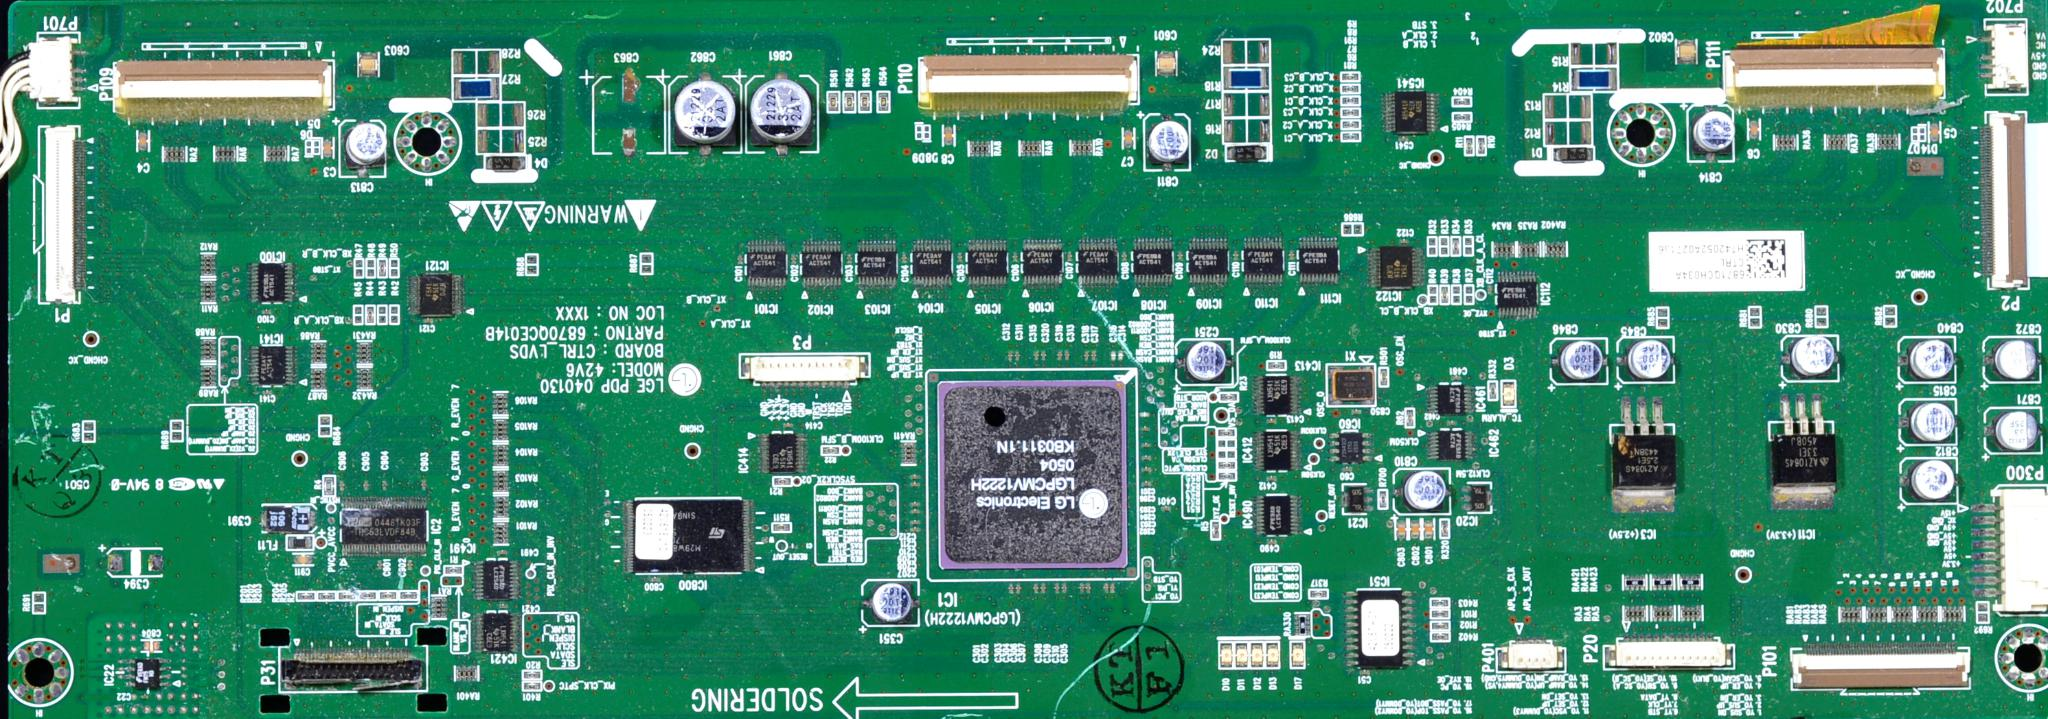Capacitor Jumper: (674, 72, 739, 146), (748, 76, 815, 148), (1395, 468, 1451, 515), (1143, 114, 1190, 167), (345, 119, 389, 175), (1553, 340, 1610, 383), (1690, 106, 1736, 158), (1903, 336, 1955, 382), (1785, 336, 1842, 378), (1991, 337, 2039, 382), (1179, 340, 1230, 382), (1991, 409, 2040, 450), (1907, 459, 1957, 499), (866, 583, 917, 622), (1626, 341, 1673, 380), (1910, 400, 1954, 441), (261, 505, 317, 532), (107, 549, 163, 575), (1155, 46, 1177, 76), (358, 48, 380, 77), (1677, 39, 1694, 63), (1746, 116, 1762, 141), (940, 123, 955, 149), (290, 553, 313, 565), (1930, 123, 1942, 145), (137, 131, 149, 153), (1422, 519, 1434, 540), (1395, 520, 1408, 539), (321, 139, 333, 158), (1409, 519, 1421, 539), (1123, 128, 1132, 152), (140, 641, 162, 650), (1140, 478, 1155, 488), (1091, 346, 1098, 361), (1004, 350, 1015, 361), (1080, 349, 1089, 361), (1139, 464, 1152, 472), (909, 518, 920, 527), (1139, 452, 1151, 460), (421, 478, 428, 490), (379, 478, 387, 490), (337, 480, 345, 492), (375, 558, 383, 569), (1031, 582, 1038, 592), (362, 478, 368, 490), (909, 501, 921, 507), (1015, 349, 1021, 359), (1139, 442, 1152, 447), (908, 473, 921, 478), (909, 527, 922, 532), (1054, 582, 1061, 592), (1007, 582, 1014, 592), (1040, 582, 1046, 592), (1015, 583, 1021, 594), (406, 558, 411, 570), (1055, 349, 1062, 358), (1040, 350, 1046, 359), (1032, 350, 1038, 359), (1140, 425, 1149, 431), (1061, 583, 1067, 592), (1161, 506, 1172, 511), (909, 509, 920, 514), (1079, 582, 1084, 592), (1085, 582, 1091, 592), (1104, 582, 1109, 592), (1109, 583, 1114, 594), (1062, 352, 1070, 358), (908, 482, 920, 486)
Connector: (1724, 44, 1946, 110), (913, 52, 1145, 114), (111, 58, 332, 118), (1980, 107, 2048, 294), (1788, 638, 1974, 694), (1971, 486, 2048, 614), (39, 124, 93, 305), (280, 644, 426, 692), (1607, 633, 1738, 672), (1981, 13, 2031, 97), (26, 34, 80, 110), (742, 353, 867, 384), (1499, 639, 1567, 671)
IC: (926, 370, 1136, 580), (623, 495, 754, 575), (1603, 393, 1678, 515), (1768, 393, 1844, 511), (1343, 584, 1416, 672), (338, 497, 430, 556), (405, 271, 465, 319), (1381, 89, 1438, 137), (1250, 492, 1302, 541), (1294, 235, 1344, 286), (1237, 235, 1287, 285), (906, 237, 953, 289), (1183, 238, 1234, 285), (798, 238, 845, 288), (853, 238, 900, 288), (1493, 271, 1540, 320), (1020, 235, 1067, 284), (743, 238, 792, 285), (1253, 425, 1300, 473), (964, 235, 1010, 285), (1371, 244, 1422, 289), (1251, 374, 1301, 418), (248, 259, 294, 306), (249, 344, 296, 390), (474, 608, 520, 655), (759, 429, 806, 473), (473, 556, 521, 599), (1132, 238, 1177, 284), (1424, 380, 1479, 416), (1078, 242, 1119, 284), (1429, 425, 1476, 460), (123, 656, 171, 690), (1326, 429, 1370, 463), (1340, 482, 1374, 516), (1462, 482, 1493, 512)
Resistor Jumper: (1221, 38, 1271, 63), (1543, 94, 1591, 119), (1223, 119, 1271, 144), (1543, 120, 1593, 144), (452, 76, 502, 99), (1223, 92, 1270, 116), (1223, 64, 1271, 88), (1570, 42, 1617, 65), (1573, 68, 1616, 89), (81, 418, 95, 442), (1655, 306, 1668, 328), (1813, 306, 1826, 327), (1219, 391, 1240, 404), (639, 251, 650, 273), (1439, 516, 1451, 539), (842, 90, 856, 110), (317, 416, 330, 435), (323, 475, 333, 497), (170, 421, 182, 441), (1977, 603, 1989, 622), (828, 90, 839, 111), (859, 90, 870, 111), (1749, 307, 1759, 328), (1307, 588, 1328, 599), (879, 90, 889, 110), (1464, 136, 1475, 156), (364, 258, 375, 277), (1216, 427, 1236, 438), (296, 590, 316, 600), (33, 592, 43, 612), (1405, 407, 1415, 429), (1883, 307, 1895, 324), (1379, 366, 1388, 387), (357, 591, 377, 600), (1432, 621, 1450, 631), (1341, 120, 1361, 129), (526, 254, 536, 273), (366, 305, 375, 324), (820, 446, 840, 455), (772, 477, 792, 486), (772, 523, 792, 532), (398, 591, 418, 600), (1430, 596, 1450, 605), (1430, 631, 1450, 641), (1341, 72, 1358, 82), (1454, 97, 1472, 106), (389, 305, 398, 323), (1217, 459, 1236, 468), (353, 303, 360, 324), (1379, 489, 1387, 510), (377, 591, 398, 599), (1340, 94, 1357, 103), (1454, 114, 1471, 123), (1477, 137, 1486, 154), (377, 259, 387, 276), (1217, 471, 1234, 480), (1341, 109, 1361, 116), (354, 258, 362, 277), (389, 258, 397, 277), (337, 591, 357, 599), (521, 671, 541, 678), (522, 681, 541, 689), (1343, 132, 1361, 140), (377, 306, 385, 324), (1267, 362, 1285, 370), (317, 592, 334, 600), (1432, 609, 1448, 617), (1452, 238, 1460, 254), (1341, 85, 1360, 92)
